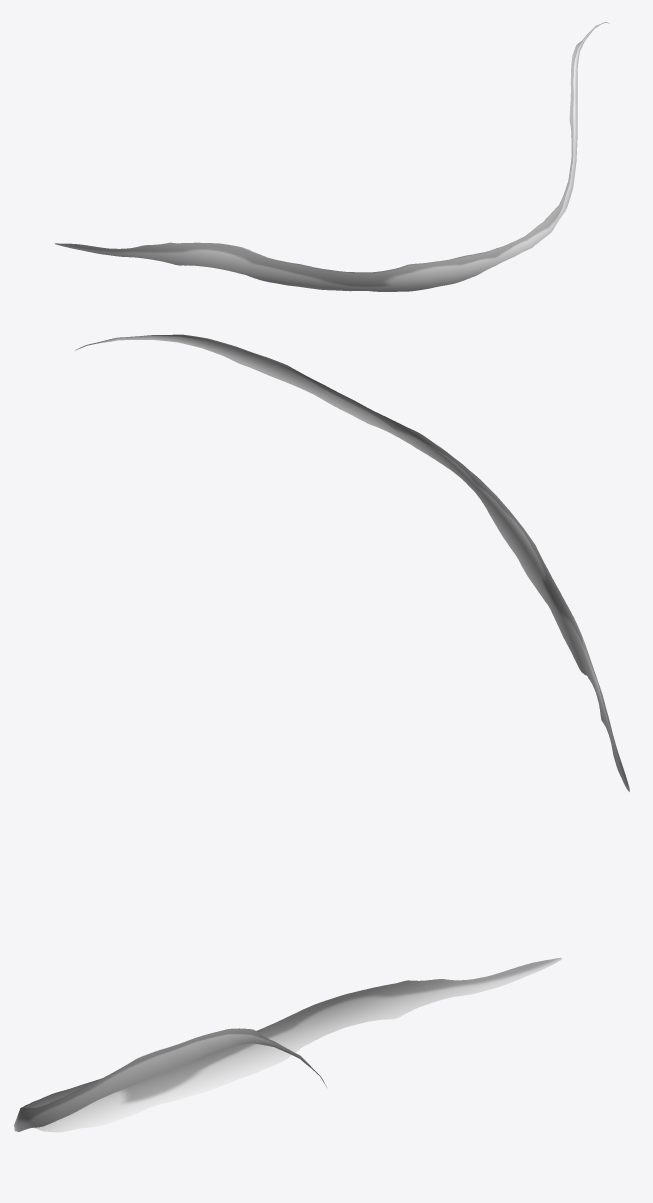
Rendered from xuli_2.FBX.
3 renders of one model, top to bottom at view 1: azimuth 30°, elevation 25°; view 2: azimuth 150°, elevation 25°; view 3: azimuth 270°, elevation 25°, orthographic. The views are drawn at different scales.
Parts seen in each view (by area): view 1: Plane006; view 2: Plane006; view 3: Plane006.
Boxes of the visible parts, <box> form: Plane006: <box>55,22,609,291</box>; Plane006: <box>75,334,629,791</box>; Plane006: <box>14,957,561,1132</box>.
Bounding box in the file's own units: 342 × 123 × 210.
